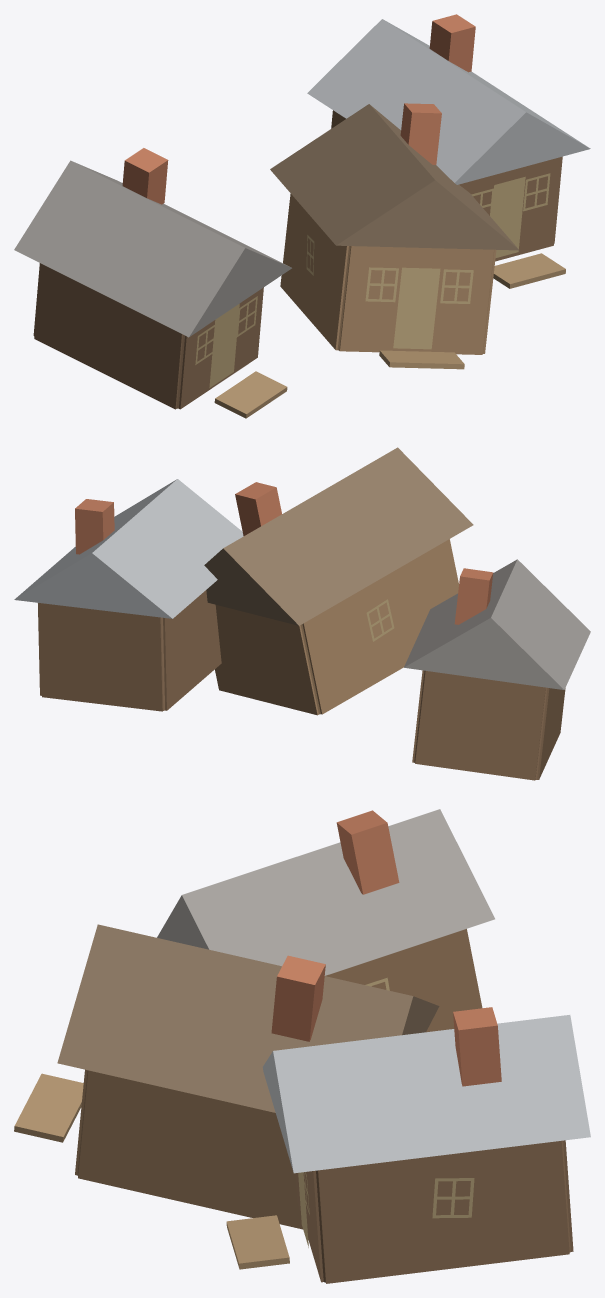
The model's file is CasasDelRio.glb.
3 views of the same model, one above another, from view 1: azimuth 30°, elevation 25°; view 2: azimuth 150°, elevation 25°; view 3: azimuth 270°, elevation 25° (orthographic). The views are drawn at different scales.
Parts seen in each view (by area): view 1: Cabana_Techo, Cabana_Techo.001, Cabana_Techo.002, Cabana_Cuerpo.001, Cabana_Cuerpo, Cabana_Cuerpo.002, Puerta_0.001, Cabana_Chimenea.002, Cabana_Chimenea.001, Cabana_Chimenea, Cabana_Porche, Puerta_0.002 (+5 smaller); view 2: Cabana_Techo.001, Cabana_Cuerpo.001, Cabana_Techo.002, Cabana_Cuerpo.002, Cabana_Techo, Cabana_Cuerpo, Cabana_Chimenea.002, Cabana_Chimenea.001, Cabana_Chimenea; view 3: Cabana_Techo.002, Cabana_Techo.001, Cabana_Cuerpo.002, Cabana_Techo, Cabana_Cuerpo.001, Cabana_Cuerpo, Cabana_Chimenea, Cabana_Chimenea.001, Cabana_Chimenea.002, Cabana_Porche.001, Cabana_Porche.002, Ventana_0.0_1.5.
Part boxes in pixels (<box>): Cabana_Techo: <box>14,160,291,337</box>; Cabana_Techo.001: <box>270,104,518,250</box>; Cabana_Techo.002: <box>307,19,590,184</box>; Cabana_Cuerpo.001: <box>280,194,496,354</box>; Cabana_Cuerpo: <box>33,263,263,409</box>; Cabana_Cuerpo.002: <box>331,110,562,261</box>; Puerta_0.001: <box>393,267,440,349</box>; Cabana_Chimenea.002: <box>429,14,475,72</box>; Cabana_Chimenea.001: <box>400,103,441,164</box>; Cabana_Chimenea: <box>122,148,168,204</box>; Cabana_Porche: <box>214,371,287,418</box>; Puerta_0.002: <box>491,176,525,257</box>; Cabana_Techo.001: <box>204,447,473,625</box>; Cabana_Cuerpo.001: <box>215,539,458,715</box>; Cabana_Techo.002: <box>14,479,243,618</box>; Cabana_Cuerpo.002: <box>38,590,221,711</box>; Cabana_Techo: <box>404,559,590,689</box>; Cabana_Cuerpo: <box>412,670,565,780</box>; Cabana_Chimenea.002: <box>75,499,114,554</box>; Cabana_Chimenea.001: <box>235,482,281,535</box>; Cabana_Chimenea: <box>454,568,493,624</box>; Cabana_Techo.002: <box>262,1015,590,1173</box>; Cabana_Techo.001: <box>57,924,439,1112</box>; Cabana_Cuerpo.002: <box>295,1140,573,1283</box>; Cabana_Techo: <box>157,809,494,975</box>; Cabana_Cuerpo.001: <box>75,1069,302,1229</box>; Cabana_Cuerpo: <box>325,929,482,1032</box>; Cabana_Chimenea: <box>336,810,399,894</box>; Cabana_Chimenea.001: <box>271,955,325,1041</box>; Cabana_Chimenea.002: <box>453,1007,501,1086</box>; Cabana_Porche.001: <box>14,1073,83,1142</box>; Cabana_Porche.002: <box>226,1215,289,1269</box>; Ventana_0.0_1.5: <box>432,1178,474,1218</box>.
Size of the model in its own units: 13.75 by 5.55 by 10.17.
